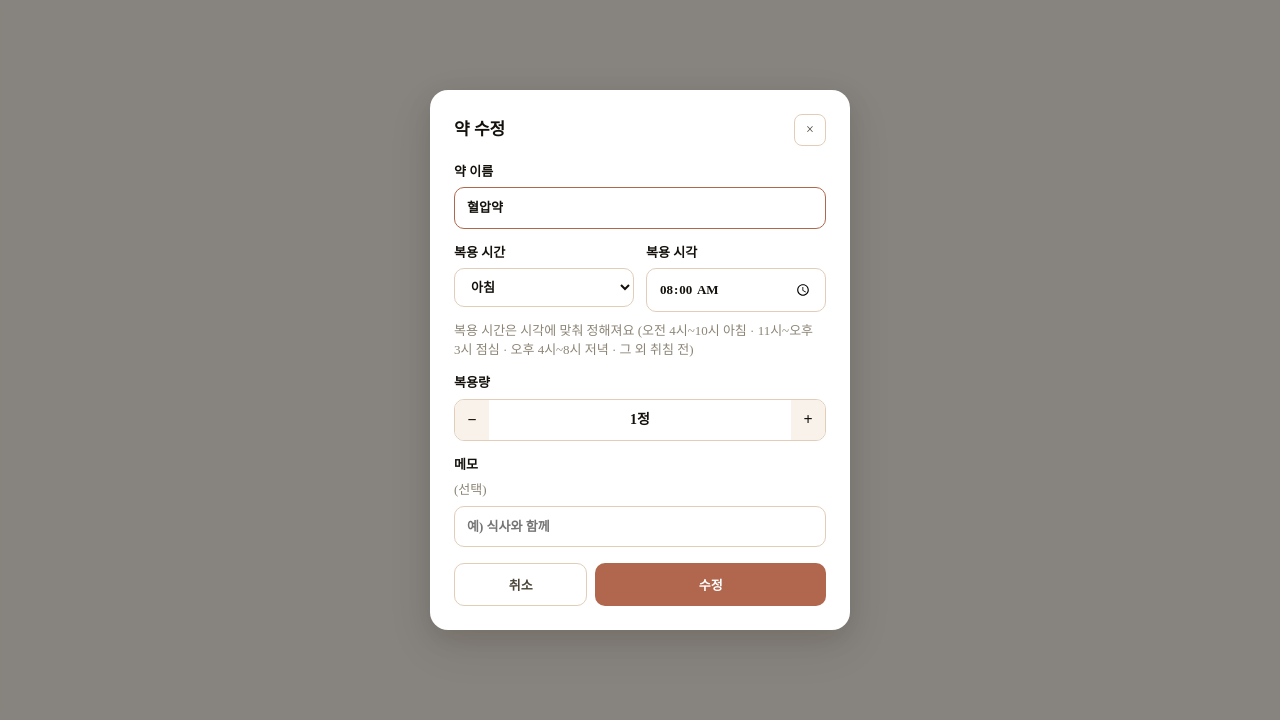
Scenario: MedicationFormModal (Chrome) › 시각 03:59 → 복용 시간 BEDTIME
The width and height of the screenshot is (1280, 720).
Replace the text in the time field labelled "복용 시각" with "03:59" at (736, 290), box left=646, top=268, right=826, bottom=312
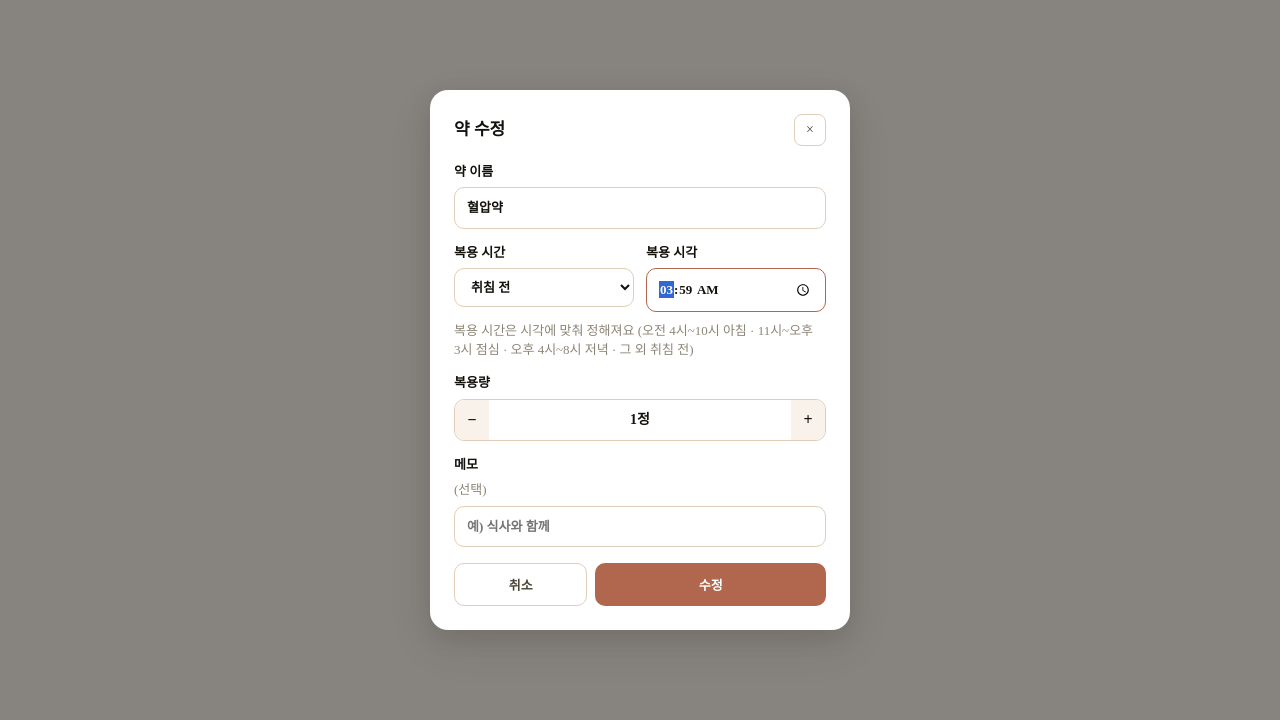
Result: the dropdown labelled "복용 시간" shows "취침 전" at left=454, top=268, right=634, bottom=307
